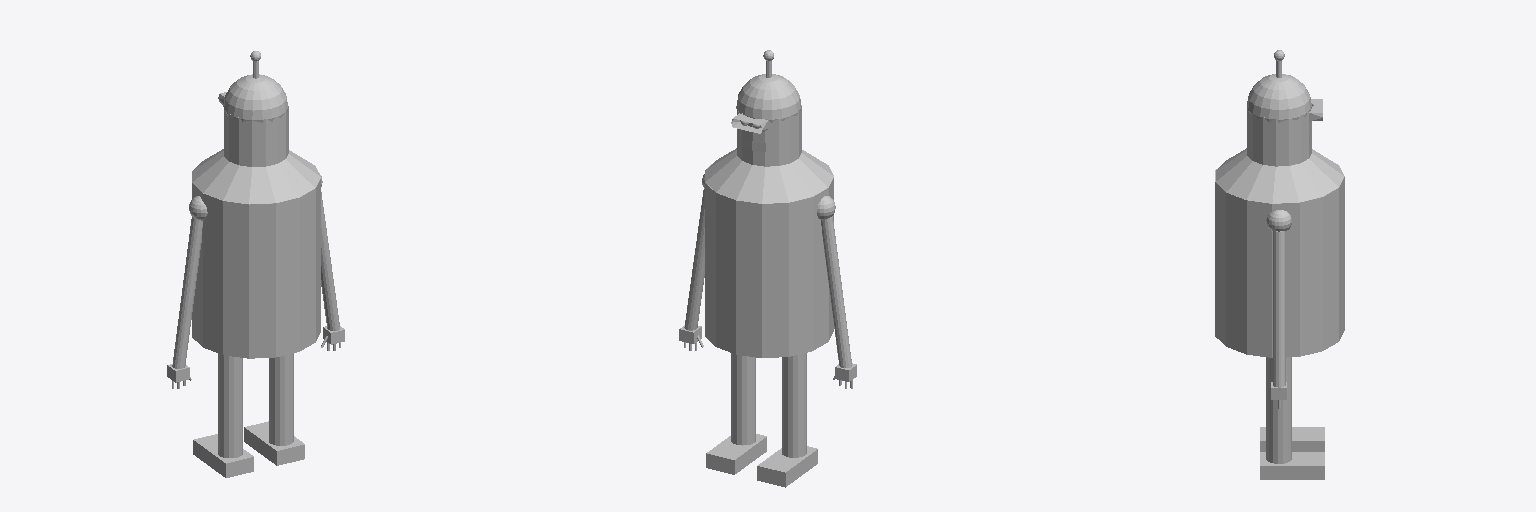
File: Bender.obj
3 views of the same model, side by side, from view 1: azimuth 30°, elevation 25°; view 2: azimuth 150°, elevation 25°; view 3: azimuth 270°, elevation 25° (orthographic).
Visible parts, largest first — view 1: Cilindro, Cono, Cilindro.003, Cilindro.002, Esfera.002, Cilindro.001, Cilindro.006, Cubo_Cubo.001, Cubo.001_Cubo.002, Cilindro.005; view 2: Cilindro, Cono, Cilindro.002, Esfera.002, Cilindro.003, Cilindro.001, Cilindro.006, Cubo.001_Cubo.002, Cubo_Cubo.001, Cilindro.005; view 3: Cilindro, Cono, Cilindro.003, Esfera.002, Cilindro.001, Cilindro.005, Cubo.001_Cubo.002, Cubo_Cubo.001.
Part boxes in pixels (x1,y1,x2,y2): Cilindro: (192, 173, 320, 358); Cono: (192, 149, 320, 203); Cilindro.003: (224, 106, 288, 166); Cilindro.002: (218, 353, 242, 457); Esfera.002: (223, 74, 287, 122); Cilindro.001: (269, 353, 293, 445); Cilindro.006: (172, 217, 202, 368); Cubo_Cubo.001: (193, 434, 253, 477); Cubo.001_Cubo.002: (244, 421, 304, 465); Cilindro.005: (321, 192, 339, 330); Cilindro: (705, 163, 833, 357); Cono: (705, 148, 833, 203); Cilindro.002: (782, 353, 806, 457); Esfera.002: (736, 74, 800, 122); Cilindro.003: (737, 105, 801, 166); Cilindro.001: (731, 353, 755, 445); Cilindro.006: (821, 216, 851, 367); Cubo.001_Cubo.002: (706, 434, 766, 474); Cubo_Cubo.001: (757, 446, 817, 487); Cilindro.005: (684, 189, 704, 330); Cilindro: (1215, 166, 1344, 357); Cono: (1216, 148, 1343, 203); Cilindro.003: (1247, 108, 1311, 166); Esfera.002: (1247, 74, 1311, 122); Cilindro.001: (1266, 357, 1291, 463); Cilindro.005: (1273, 231, 1285, 387); Cubo.001_Cubo.002: (1260, 452, 1324, 479); Cubo_Cubo.001: (1260, 427, 1324, 451).
Size of the model in its own units: 2.99 by 6.92 by 1.98.